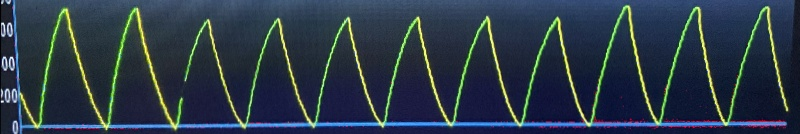normal_volume: (19, 1, 800, 132)
